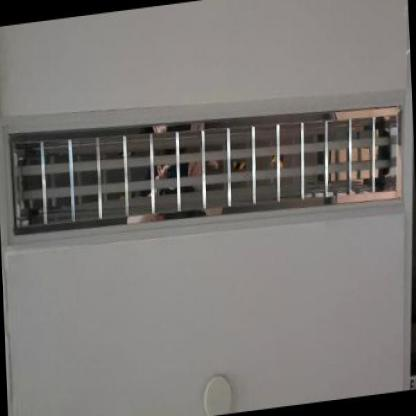light_off: (0, 61, 412, 261)
